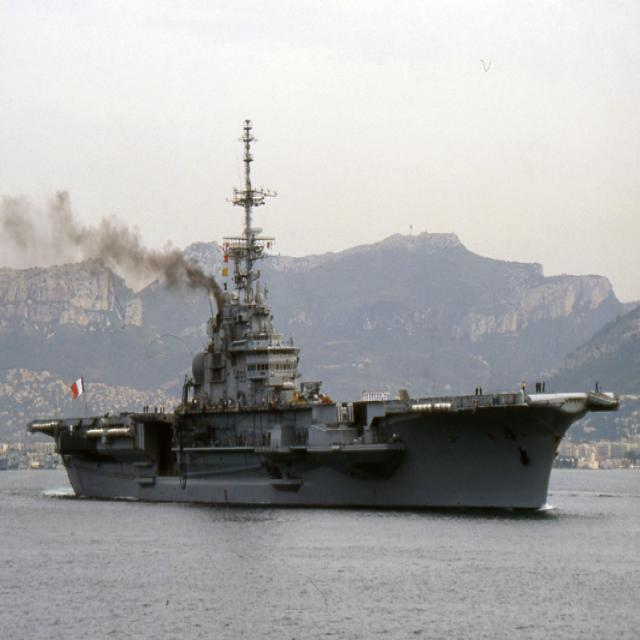Portanaves: (27, 102, 625, 522)
